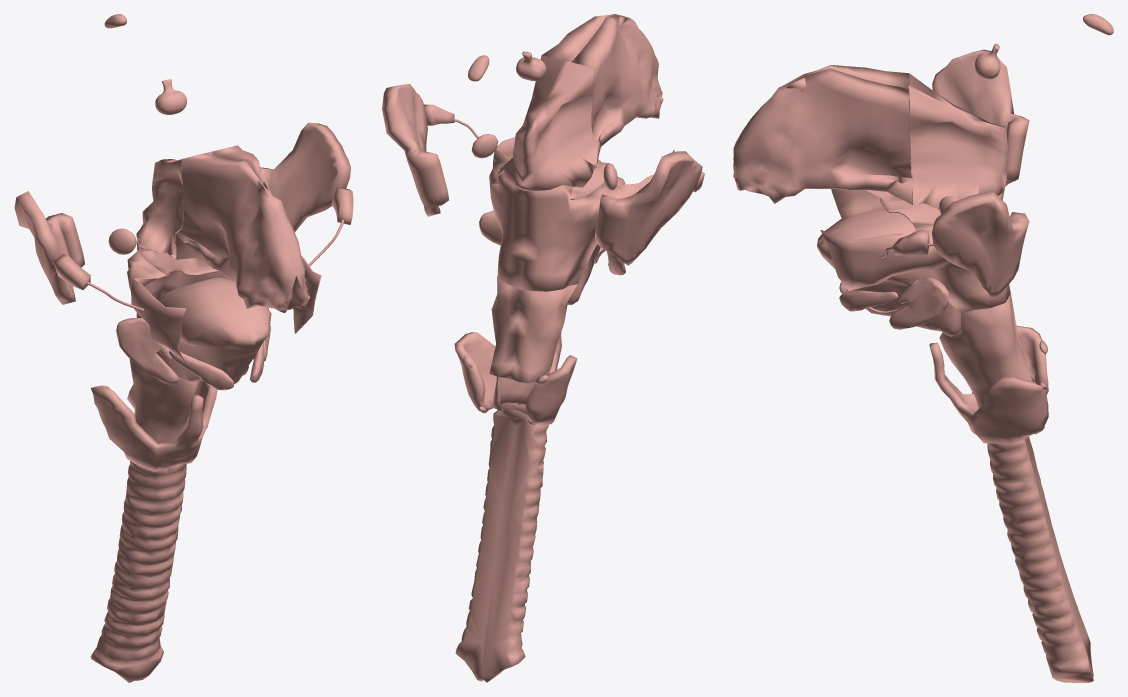
Rendered from organs.glb.
3 renders of one model, left to right at view 1: azimuth 30°, elevation 25°; view 2: azimuth 150°, elevation 25°; view 3: azimuth 270°, elevation 25°, orthographic. The views are drawn at different scales.
Parts seen in each view (by area): view 1: Mucosa of nasal cavity.001, Trachea.001, Tongue.001, Parotid gland.l.001, Thyroid gland.001, Oropharynx.001, Laryngopharynx.001, Parotid gland.r.001, Nasopharynx.001, Submandibular gland.r.001, Soft palate.001, Sublingual gland.r.001 (+4 smaller); view 2: Trachea.001, Oropharynx.001, Nasopharynx.001, Mucosa of nasal cavity.001, Laryngopharynx.001, Parotid gland.r.001, Parotid gland.l.001, Thyroid gland.001, Soft palate.001, Submandibular gland.l.001, Tongue.001, Neurohypophysis.001 (+1 smaller); view 3: Mucosa of nasal cavity.001, Trachea.001, Nasopharynx.001, Oropharynx.001, Parotid gland.l.001, Thyroid gland.001, Laryngopharynx.001, Parotid gland.r.001, Tongue.001, Submandibular gland.l.001, Sublingual gland.l.001, Soft palate.001 (+1 smaller).
Part boxes in pixels (<box>): Mucosa of nasal cavity.001: <box>175,145,310,313</box>; Trachea.001: <box>90,461,186,682</box>; Tongue.001: <box>156,277,271,383</box>; Parotid gland.l.001: <box>260,122,350,231</box>; Thyroid gland.001: <box>91,380,217,471</box>; Oropharynx.001: <box>127,224,321,360</box>; Laryngopharynx.001: <box>127,359,200,443</box>; Parotid gland.r.001: <box>14,191,84,304</box>; Nasopharynx.001: <box>136,145,237,258</box>; Submandibular gland.r.001: <box>116,318,178,384</box>; Soft palate.001: <box>137,238,219,275</box>; Sublingual gland.r.001: <box>169,351,234,390</box>; Trachea.001: <box>455,402,548,682</box>; Oropharynx.001: <box>489,137,674,291</box>; Nasopharynx.001: <box>498,55,598,190</box>; Mucosa of nasal cavity.001: <box>541,14,663,165</box>; Laryngopharynx.001: <box>489,276,577,410</box>; Parotid gland.r.001: <box>595,151,702,265</box>; Parotid gland.l.001: <box>382,84,448,216</box>; Thyroid gland.001: <box>454,332,577,425</box>; Soft palate.001: <box>570,159,608,199</box>; Submandibular gland.l.001: <box>479,210,502,245</box>; Tongue.001: <box>567,177,625,304</box>; Neurohypophysis.001: <box>516,53,544,81</box>; Mucosa of nasal cavity.001: <box>733,65,912,204</box>; Trachea.001: <box>987,436,1093,682</box>; Nasopharynx.001: <box>908,73,1007,208</box>; Oropharynx.001: <box>820,189,1010,313</box>; Parotid gland.l.001: <box>932,192,1029,298</box>; Thyroid gland.001: <box>929,326,1048,443</box>; Laryngopharynx.001: <box>939,293,1035,407</box>; Parotid gland.r.001: <box>932,49,1029,186</box>; Tongue.001: <box>817,209,960,336</box>; Submandibular gland.l.001: <box>889,277,949,329</box>; Sublingual gland.l.001: <box>839,290,898,311</box>; Soft palate.001: <box>880,198,940,223</box>.
Bounding box in the file's own units: 0.1308 × 0.2645 × 0.1368.
